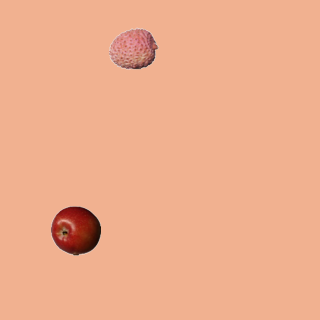Apple Braeburn: (50, 205, 100, 255)
Lychee: (108, 23, 158, 73)
